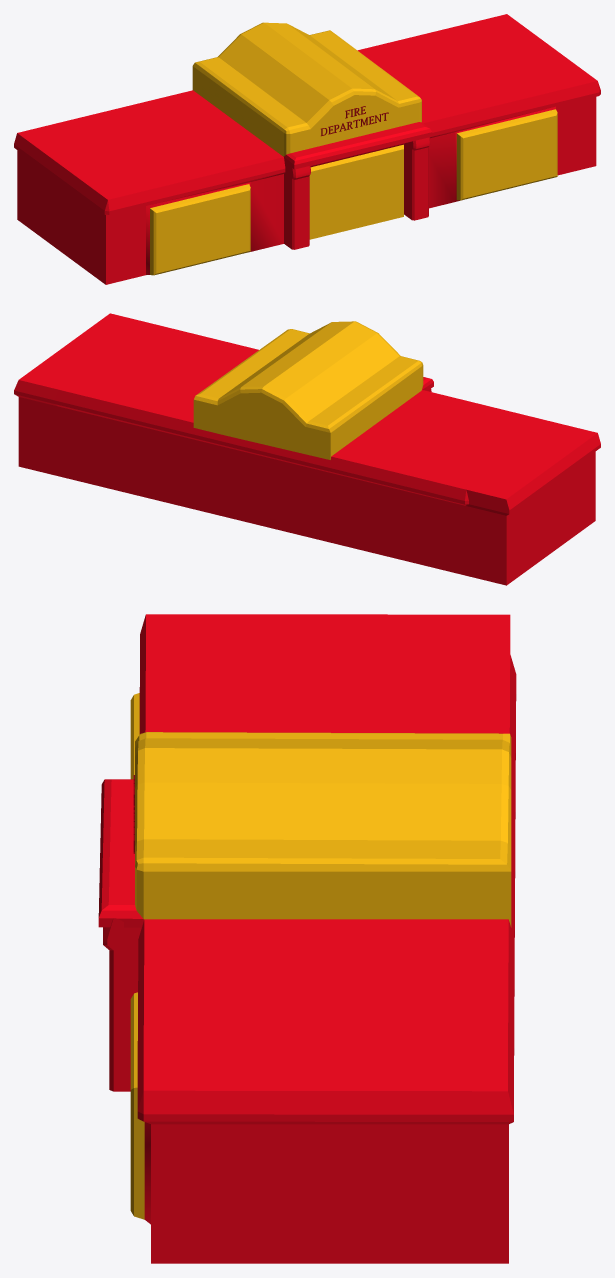
File: SM_Fire_Department.fbx
3 views of the same model, one above another, from view 1: azimuth 30°, elevation 25°; view 2: azimuth 150°, elevation 25°; view 3: azimuth 270°, elevation 25° (orthographic). The views are drawn at different scales.
Parts seen in each view (by area): view 1: SM_Fire_Department; view 2: SM_Fire_Department; view 3: SM_Fire_Department.
Part boxes in pixels (<box>): SM_Fire_Department: <box>14,14,600,284</box>; SM_Fire_Department: <box>14,313,600,585</box>; SM_Fire_Department: <box>98,614,516,1263</box>.
Bounding box in the file's own units: 2857 × 763 × 1043.
